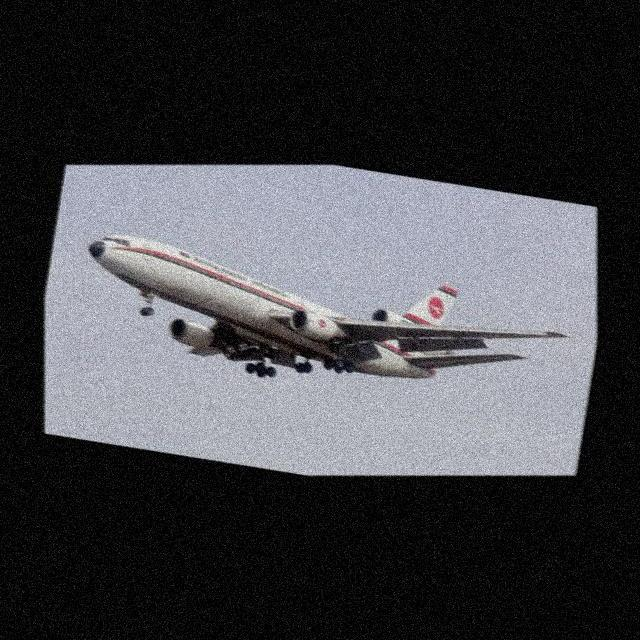airplane: (83, 220, 574, 389)
